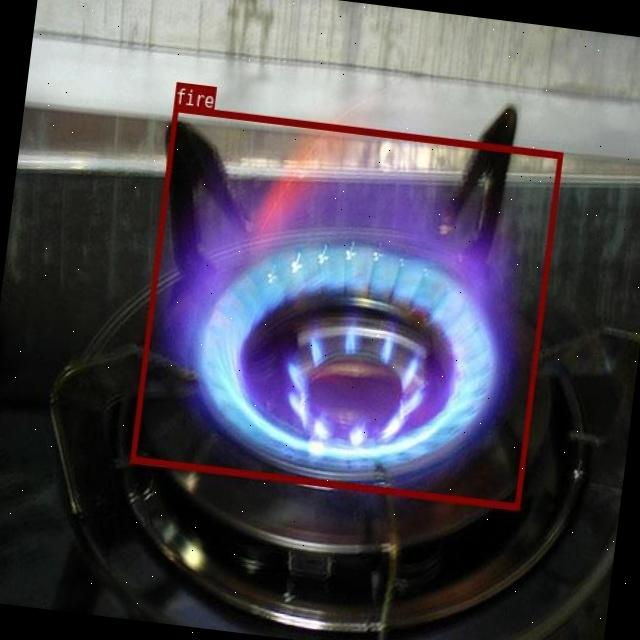fire: (128, 104, 562, 510)
